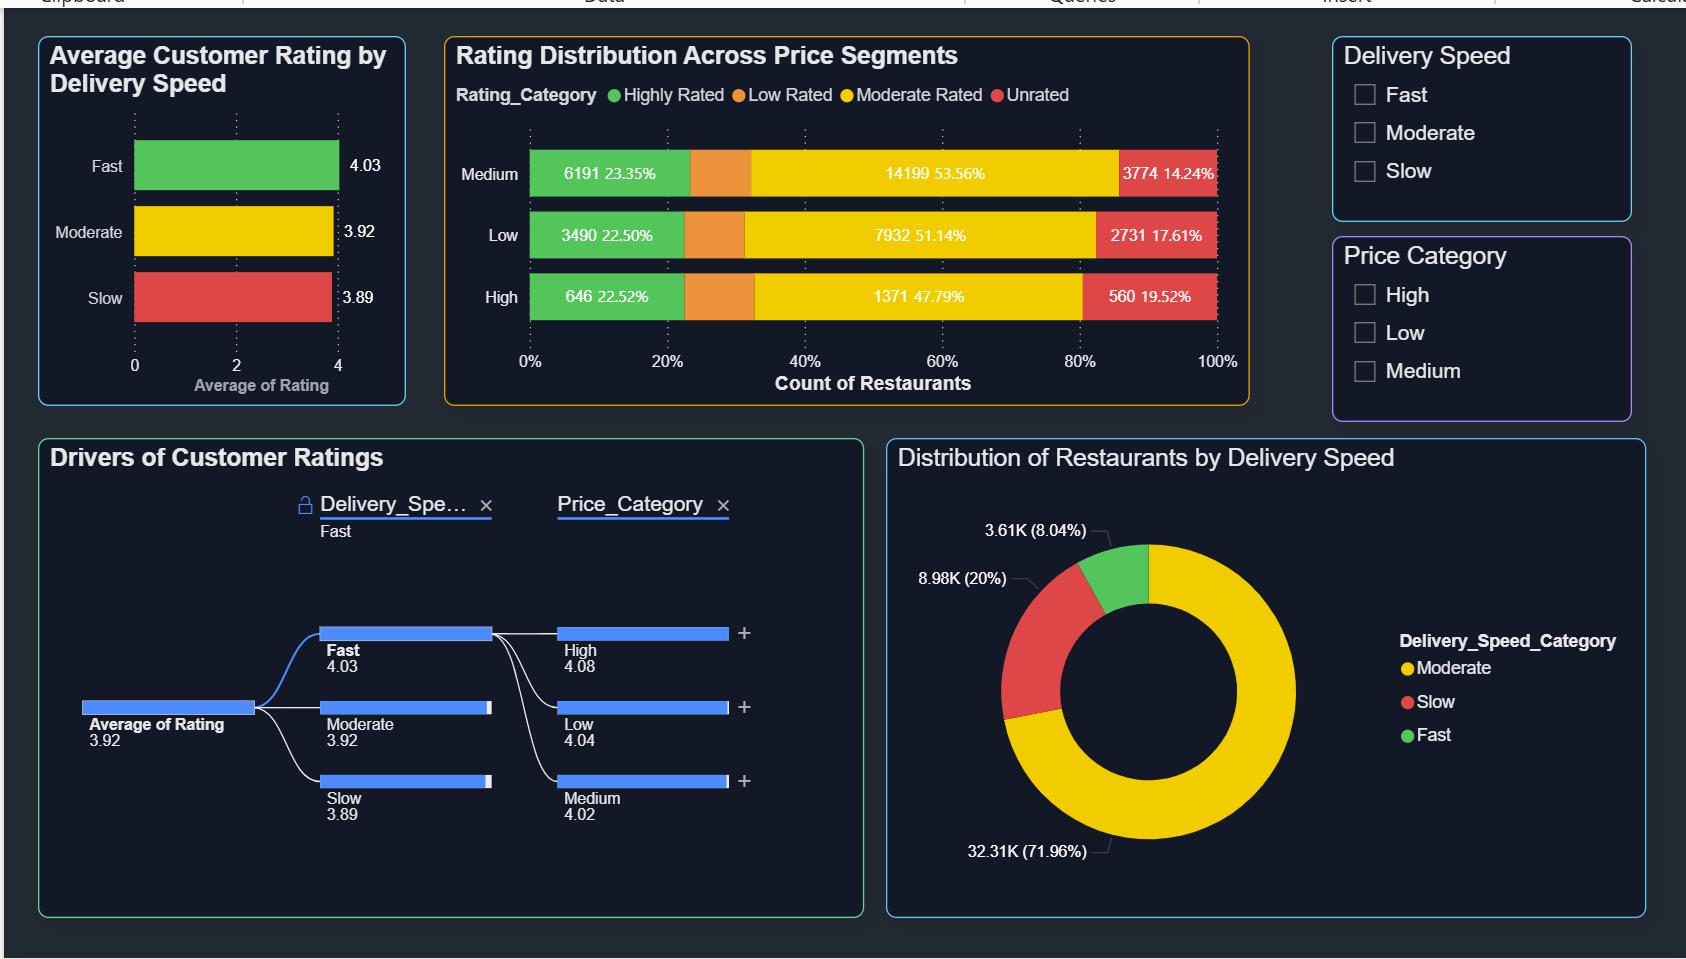

The page's visual inventory and layout, read from the dashboard file:
{"tool":"powerbi","page":{"name":"Customer Experience and Value Analysis","canvas":[1280,720],"ordinal":2},"visuals":[{"type":"clusteredBarChart","title":"Average Customer Rating by Delivery Speed","fields":{"Y":["Avg(zomato_dataset_feature_engineered.Rating)"],"Category":["zomato_dataset_feature_engineered.Delivery_Speed_Category"]},"box":[25.8,21.2,279.1,280.6],"z":0},{"type":"hundredPercentStackedBarChart","title":"Rating Distribution Across Price Segments","fields":{"Category":["zomato_dataset_feature_engineered.Price_Category"],"Y":["CountNonNull(zomato_dataset_feature_engineered.Restaurant Name)"],"Series":["zomato_dataset_feature_engineered.Rating_Category"]},"box":[333.6,21.2,611.2,280.6],"z":1000},{"type":"decompositionTreeVisual","title":"Drivers of Customer Ratings","fields":{"Analyze":["Avg(zomato_dataset_feature_engineered.Rating)"],"ExplainBy":["zomato_dataset_feature_engineered.Delivery_Speed_Category","zomato_dataset_feature_engineered.Price_Category","zomato_dataset_feature_engineered.Safety_Flag"]},"box":[25.8,326.1,626.4,364],"z":2000},{"type":"slicer","title":"Delivery Speed","fields":{"Values":["zomato_dataset_feature_engineered.Delivery_Speed_Category"]},"box":[1007,21.2,227.5,141],"z":3000},{"type":"slicer","title":"Price Category","fields":{"Values":["zomato_dataset_feature_engineered.Price_Category"]},"box":[1007,172.9,227.5,141],"z":4000},{"type":"donutChart","title":"Distribution of Restaurants by Delivery Speed","fields":{"Category":["zomato_dataset_feature_engineered.Delivery_Speed_Category"],"Y":["CountNonNull(zomato_dataset_feature_engineered.Restaurant Name)"]},"box":[668.8,326.1,576.3,364],"z":5000}]}

Visuals, with their boxes on the page's 1280x720 design canvas (x1, y1, x2, y2). These are canvas units, not pixel positions in the 1686x959 screenshot, which may show the page scaled, cropped or inside an application window:
"Average Customer Rating by Delivery Speed" clusteredBarChart: [x1=26, y1=21, x2=305, y2=302]
"Rating Distribution Across Price Segments" hundredPercentStackedBarChart: [x1=334, y1=21, x2=945, y2=302]
"Drivers of Customer Ratings" decompositionTreeVisual: [x1=26, y1=326, x2=652, y2=690]
"Delivery Speed" slicer: [x1=1007, y1=21, x2=1234, y2=162]
"Price Category" slicer: [x1=1007, y1=173, x2=1234, y2=314]
"Distribution of Restaurants by Delivery Speed" donutChart: [x1=669, y1=326, x2=1245, y2=690]
